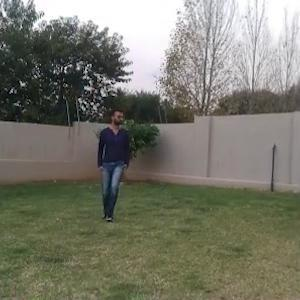follow: (98, 106, 127, 219)
